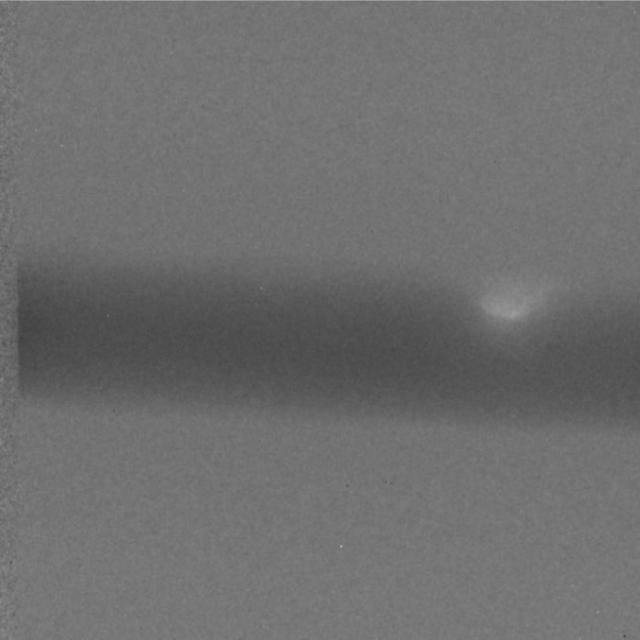bite edge: (473, 275, 540, 325)
